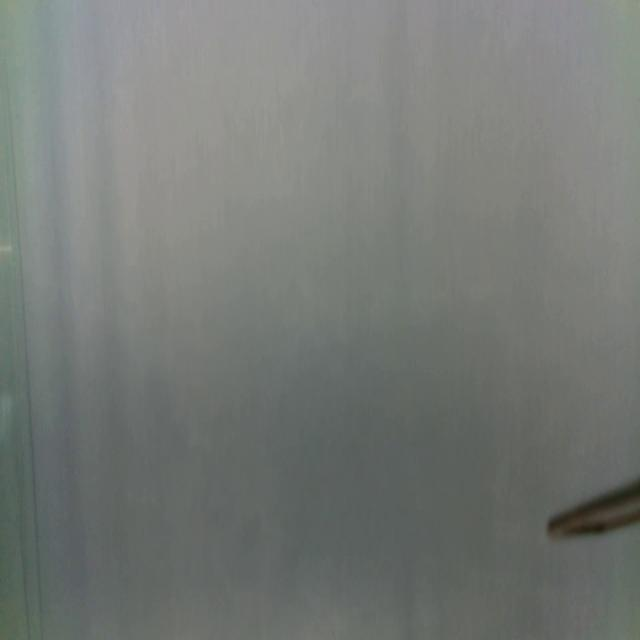crease: (2, 52, 45, 638)
